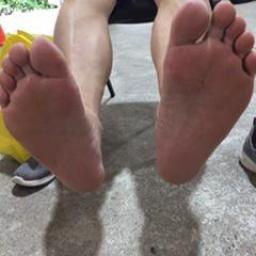Plantar View -Both Feet-: (2, 2, 255, 202)
